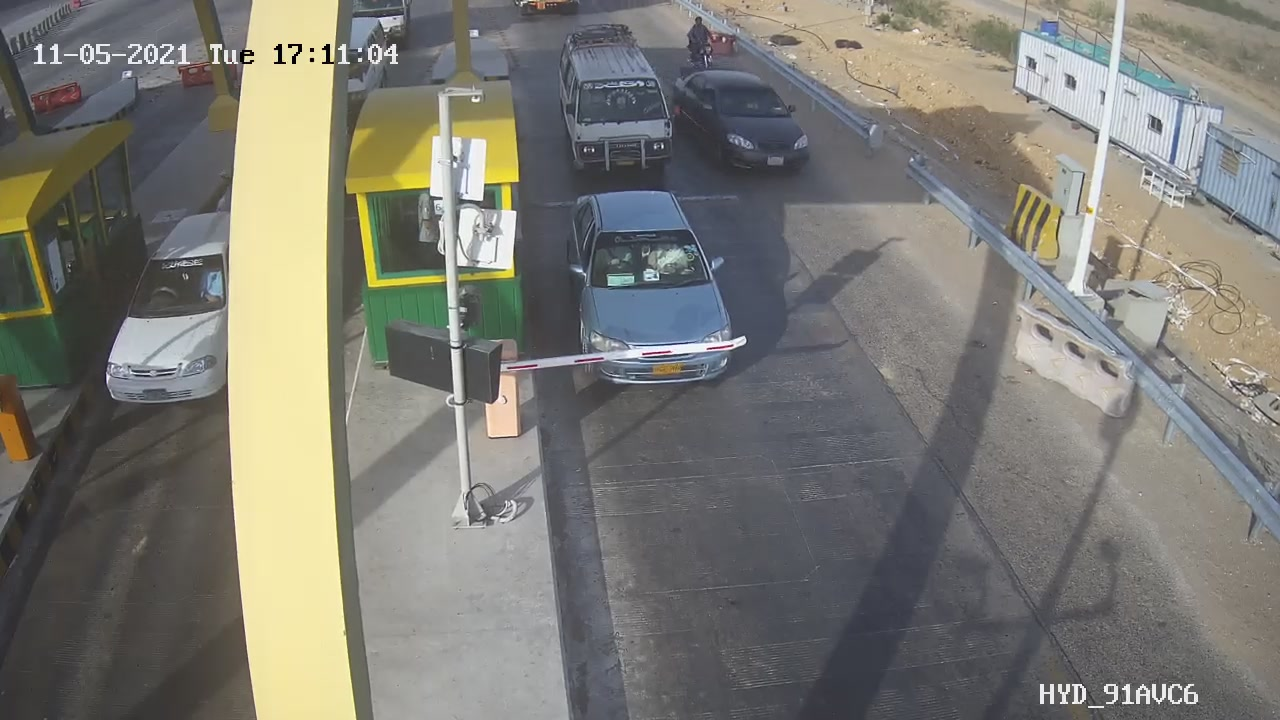F1: (555, 186, 739, 395)
F2: (540, 13, 692, 186)
